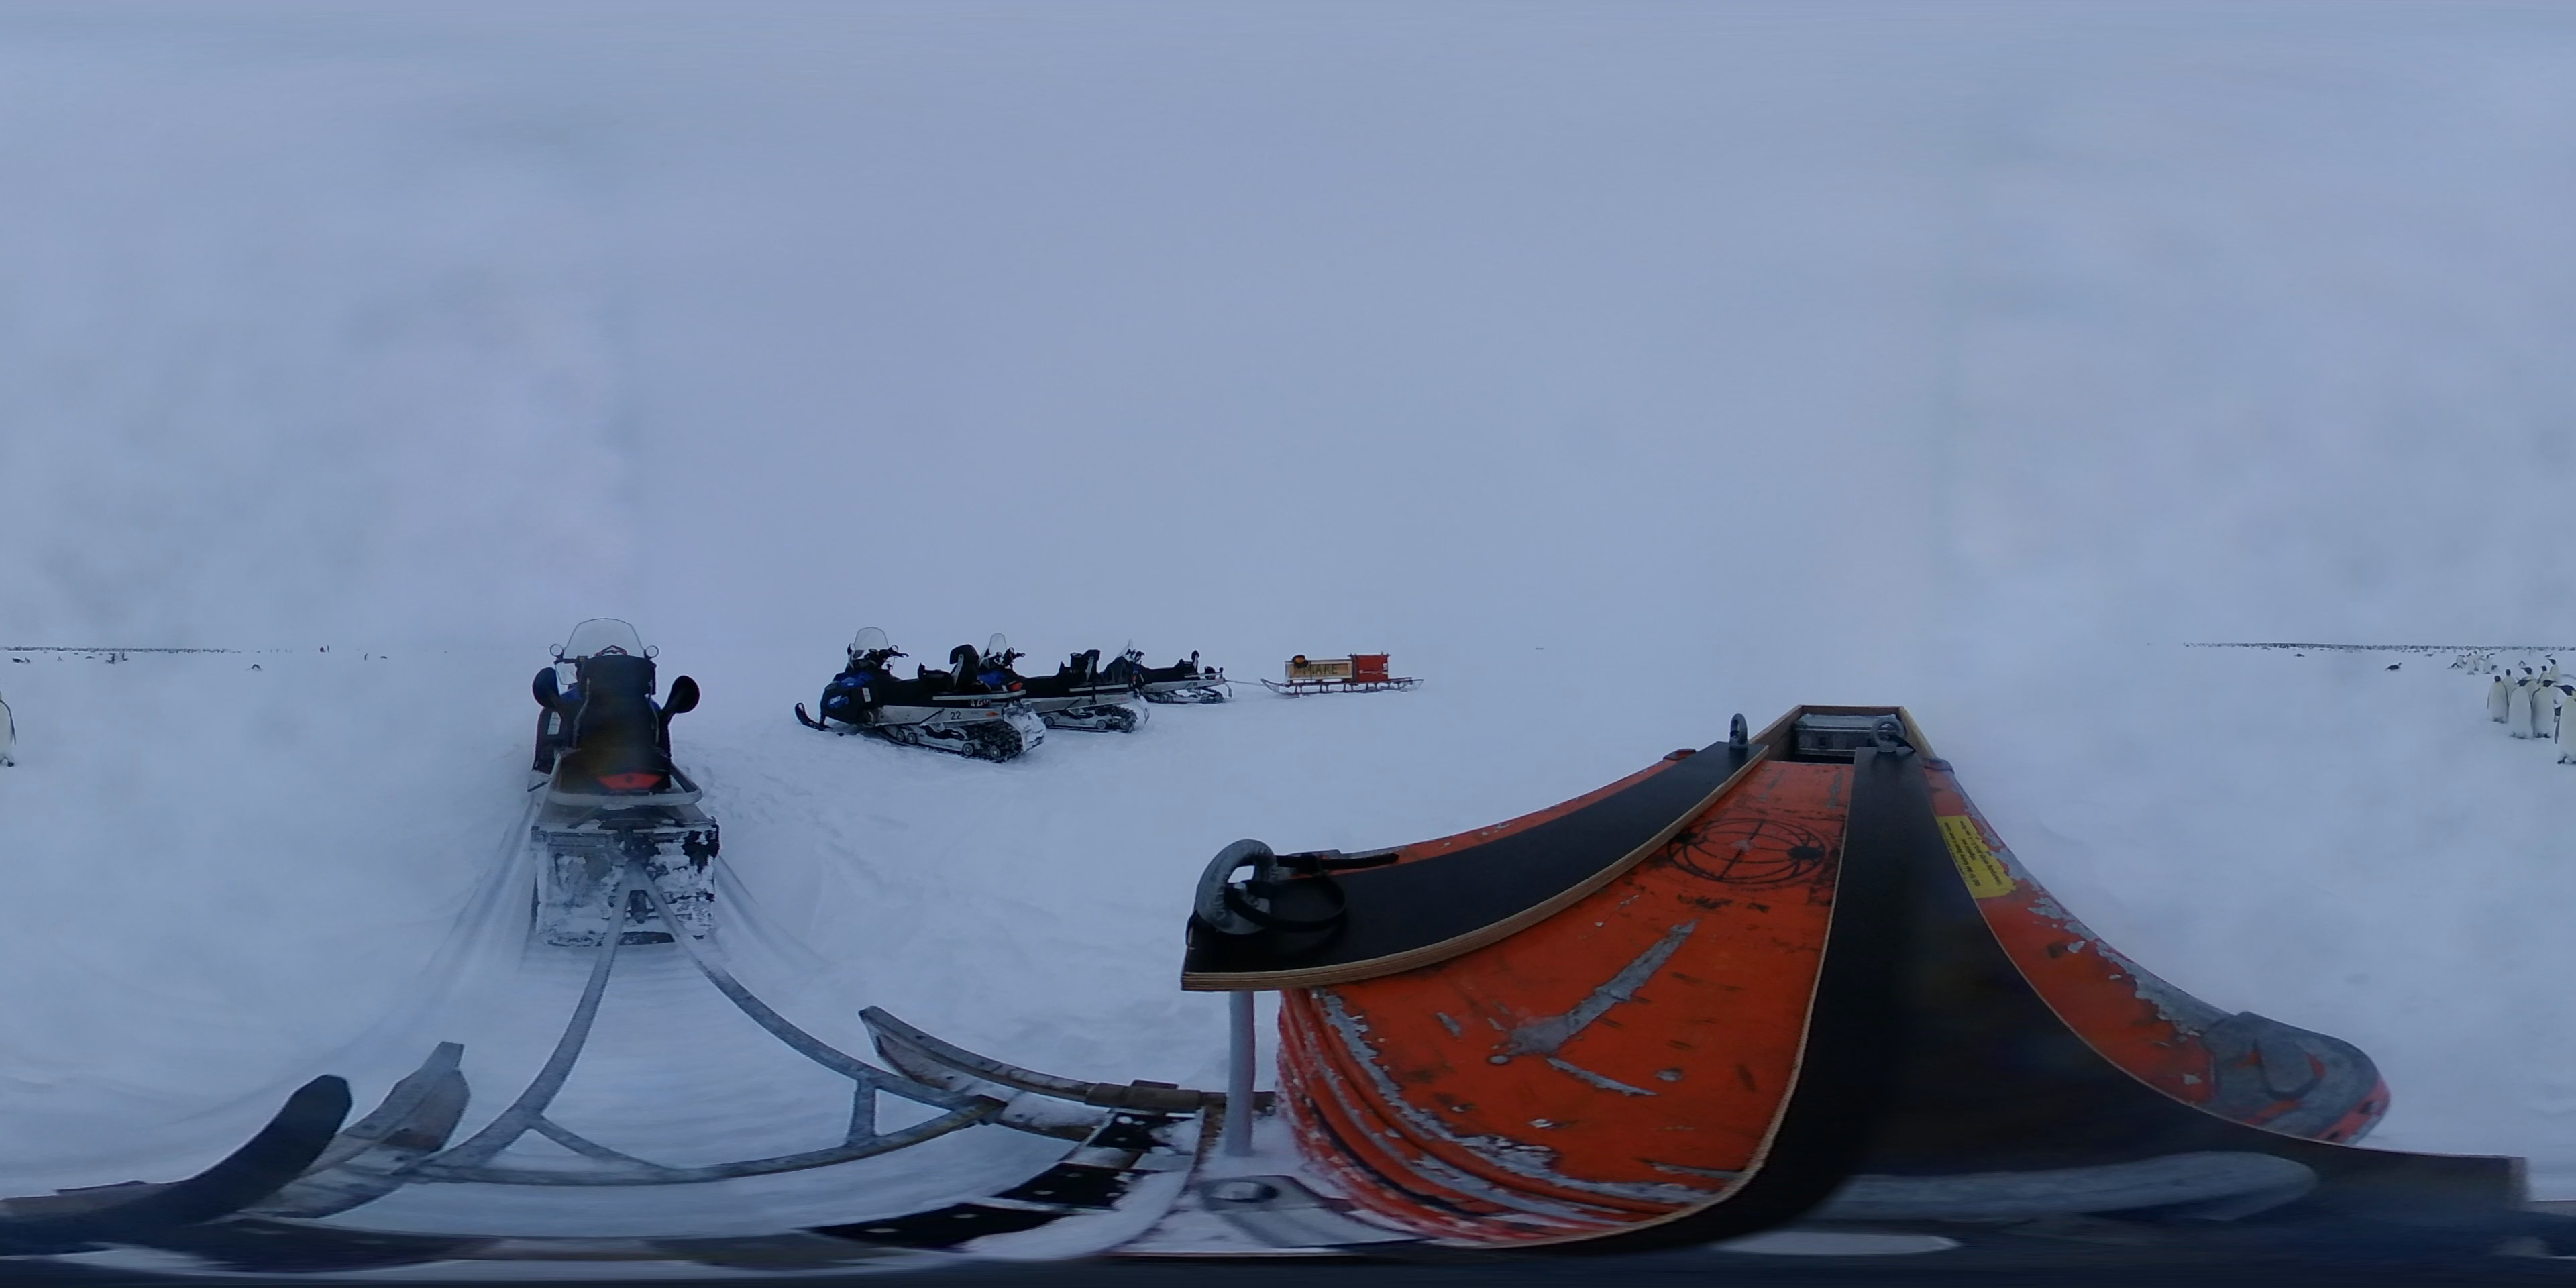adult_standing_penguin: (2528, 678, 2560, 741), (2553, 683, 2576, 767), (0, 685, 21, 772), (2484, 675, 2518, 726), (2507, 677, 2533, 743)
adult_toboggan_penguin: (2379, 660, 2408, 672), (243, 660, 266, 674)
